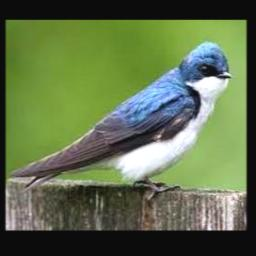Swallow: (9, 40, 232, 194)
